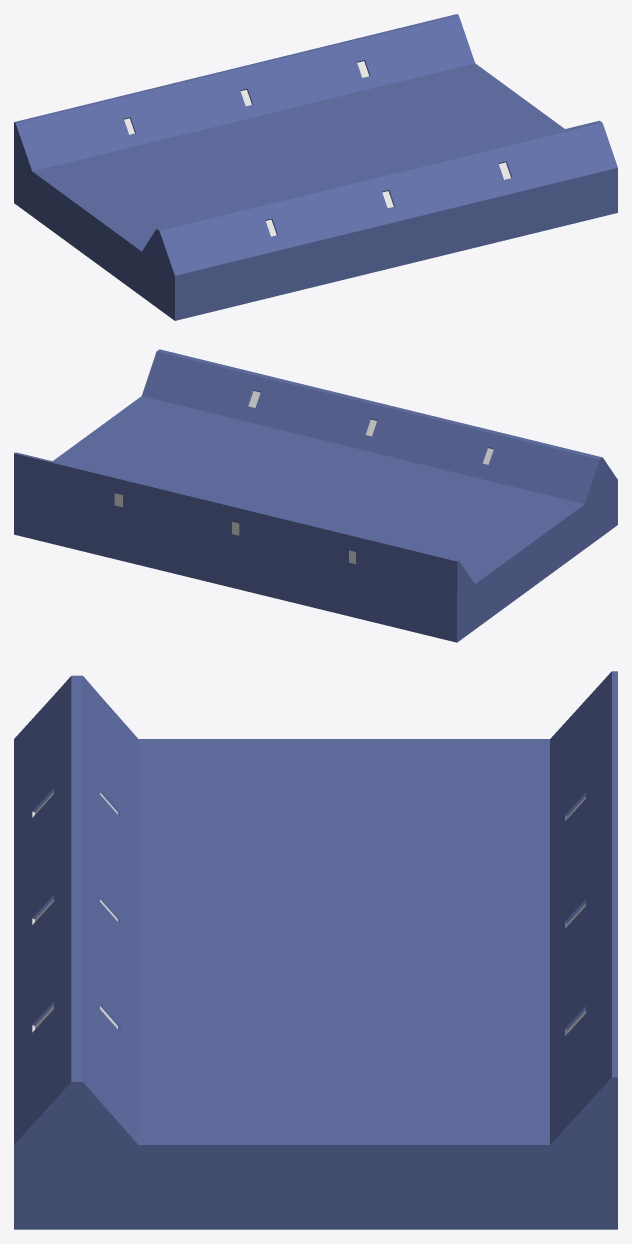
Rendered from staticmesh_Bridge_HalfTrackLeft.fbx.
3 views of the same model, one above another, from view 1: azimuth 30°, elevation 25°; view 2: azimuth 150°, elevation 25°; view 3: azimuth 270°, elevation 25° (orthographic). The views are drawn at different scales.
Visible parts, largest first — view 1: geo_Bridge_HalfTrackLeft; view 2: geo_Bridge_HalfTrackLeft; view 3: geo_Bridge_HalfTrackLeft.
Boxes of the visible parts, left/top/right/bottom form: geo_Bridge_HalfTrackLeft: left=14, top=14, right=617, bottom=320; geo_Bridge_HalfTrackLeft: left=14, top=349, right=617, bottom=642; geo_Bridge_HalfTrackLeft: left=14, top=671, right=617, bottom=1229.
Size of what is drawn, in the model's own units: 621 by 130 by 390.
